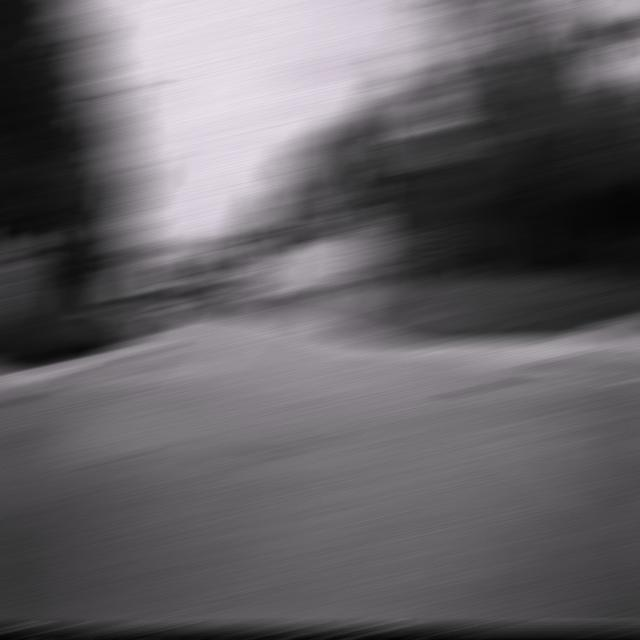speedLimit25: (346, 223, 380, 248)
